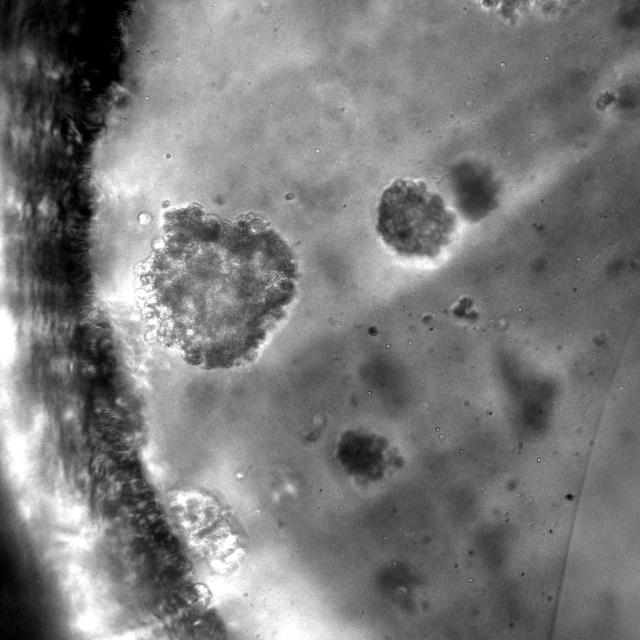organoid: (136, 203, 297, 368), (167, 488, 244, 574), (377, 178, 453, 255), (336, 430, 403, 482), (450, 159, 501, 220), (451, 296, 478, 321)
